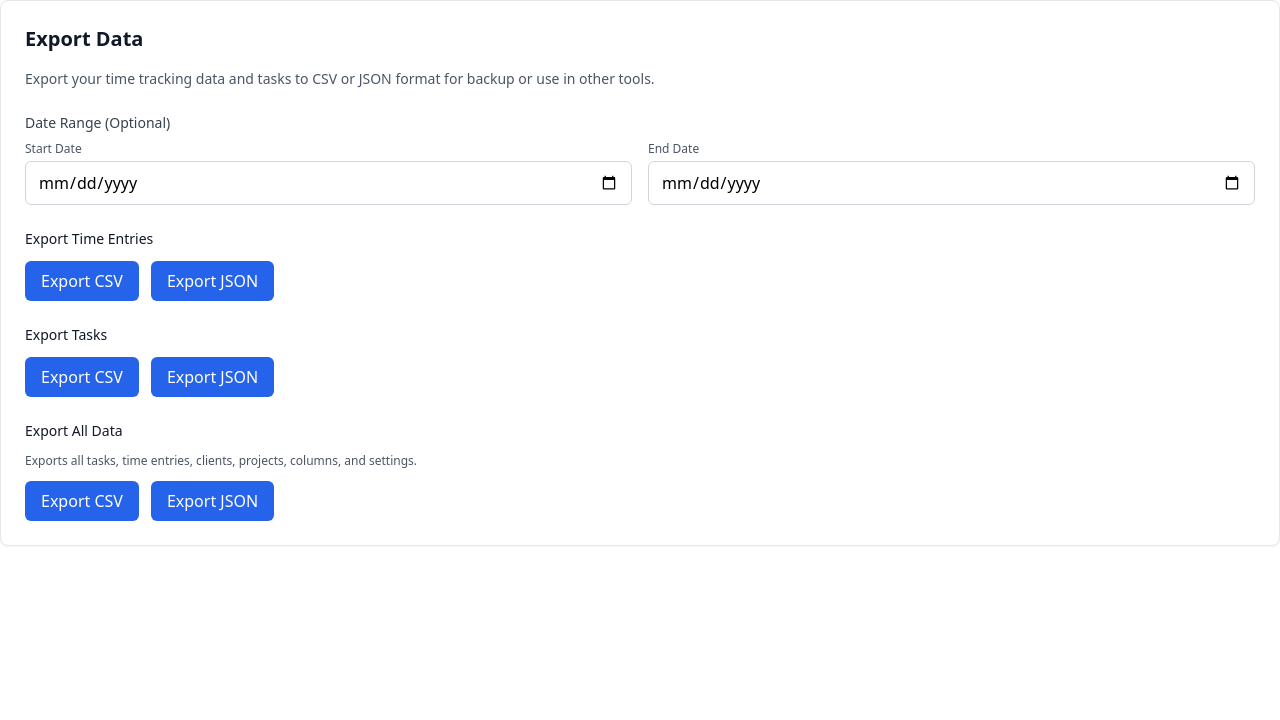
Test: ExportOptions › time entries export › shows error message on export failure
Click the button with aria-label "Export time entries as CSV" at (82, 281), box [25,261,139,301]
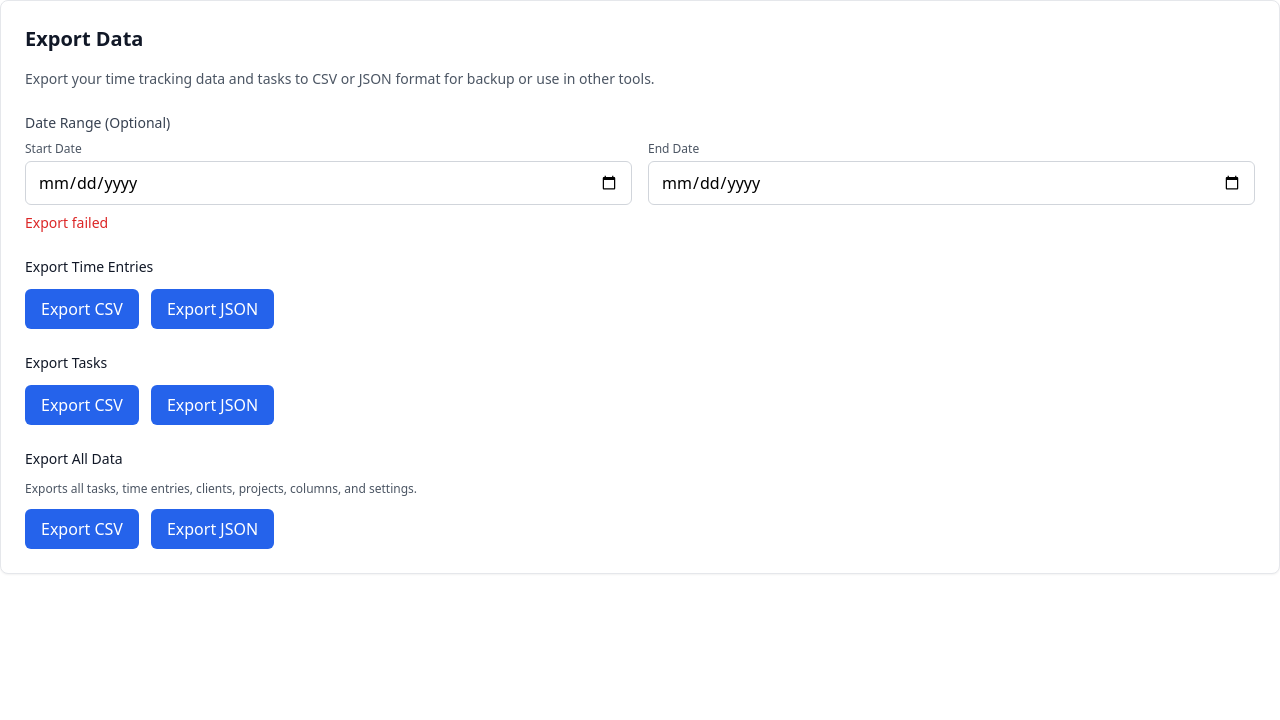
Check: the text "Export failed" is shown, box [25,213,108,232]
